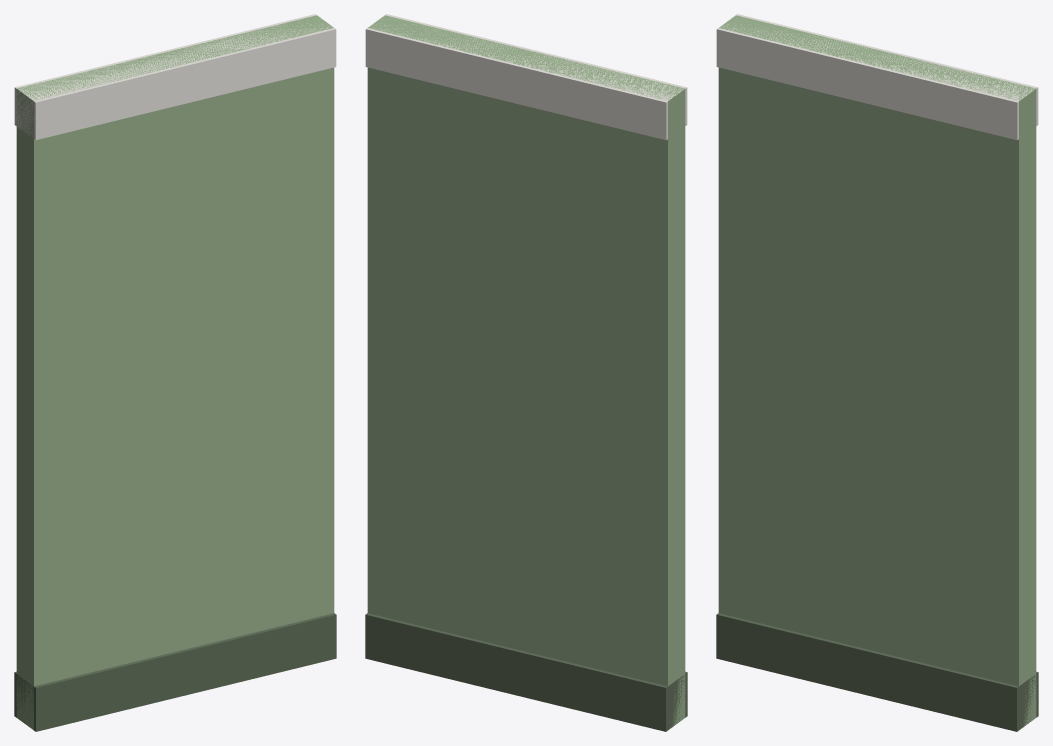
The model's file is mod-reboco-verde.gltf.
The picture shows the model from 3 angles, left to right: view 1: azimuth 30°, elevation 25°; view 2: azimuth 150°, elevation 25°; view 3: azimuth 330°, elevation 25°; orthographic projection.
Visible parts, largest first — view 1: mod-reboco-verde; view 2: mod-reboco-verde; view 3: mod-reboco-verde.
Part boxes in pixels (<box>): mod-reboco-verde: <box>14,14,336,731</box>; mod-reboco-verde: <box>365,14,687,731</box>; mod-reboco-verde: <box>716,14,1038,731</box>.
Size of the model in its own units: 1 by 2 by 0.124.
